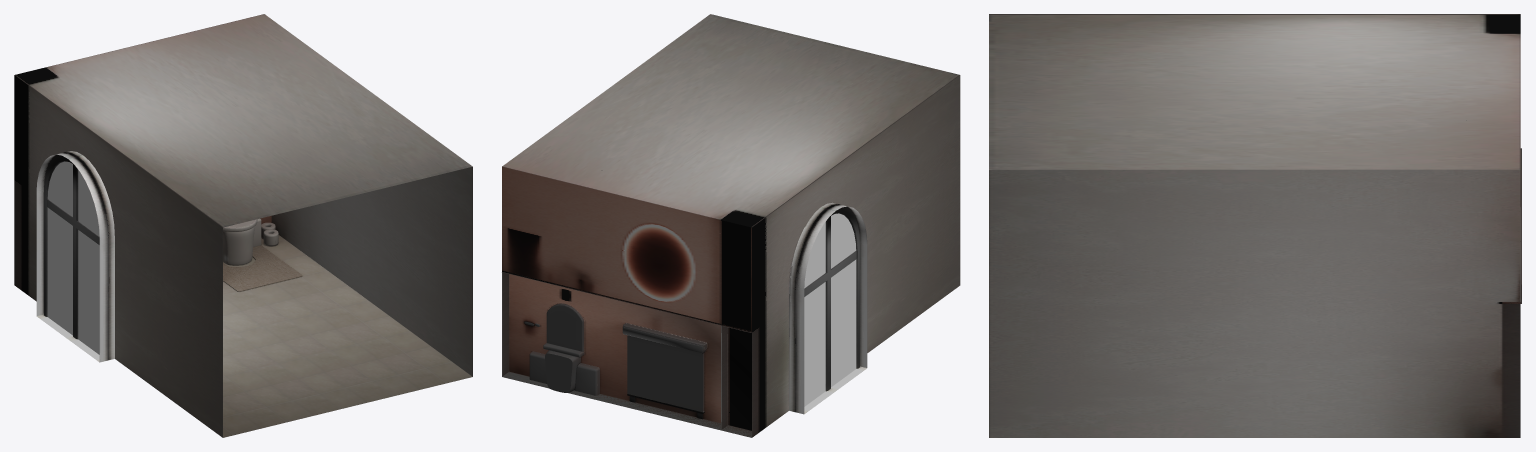
Rendered from Modern Bathroom.fbx.
The picture shows the model from 3 angles, left to right: view 1: azimuth 30°, elevation 25°; view 2: azimuth 150°, elevation 25°; view 3: azimuth 270°, elevation 25°; orthographic projection. The views are drawn at different scales.
Visible parts, largest first — view 1: Bathroom; view 2: Bathroom; view 3: Bathroom.
Part boxes in pixels (left/top/right/bottom): Bathroom: left=14, top=14, right=472, bottom=437; Bathroom: left=502, top=14, right=960, bottom=437; Bathroom: left=989, top=14, right=1521, bottom=437.
Size of the model in its own units: 630 by 481 by 860.
Materials: 22 (20 with a texture image).
